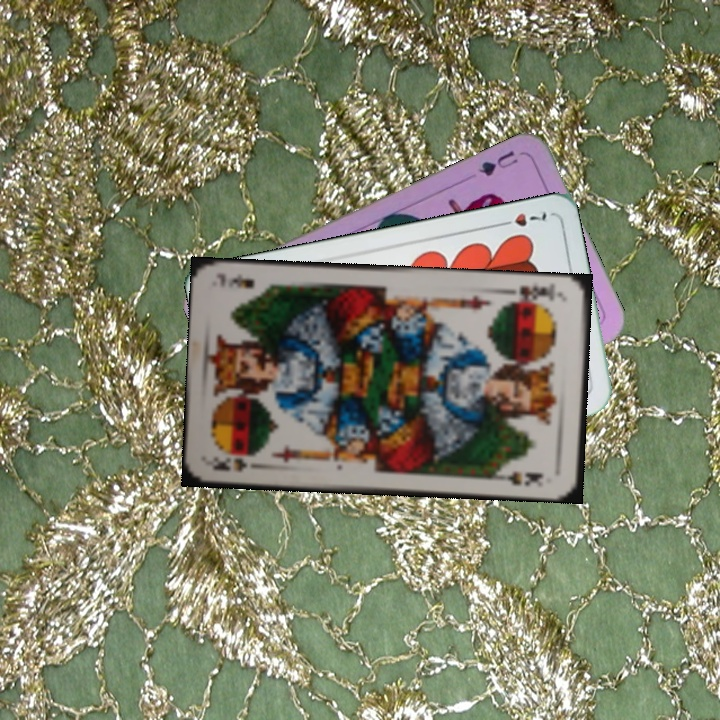GU: (474, 147, 521, 180)
H7: (493, 207, 549, 230)
SK: (505, 280, 565, 307), (207, 452, 250, 475)
